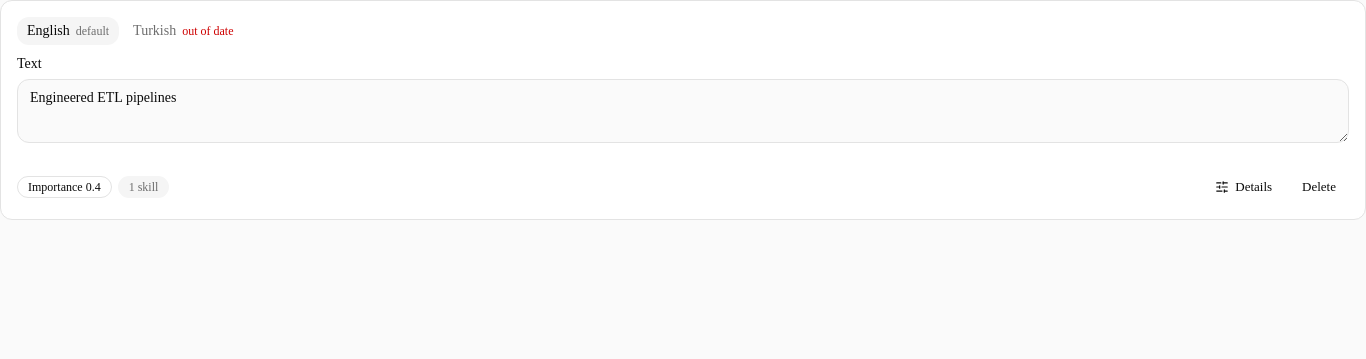
Test: a wording that was translated rather than written › says nothing about a wording the person wrote
What coordinates should you click on to do the following:
click the tab "Turkish out of date"
I would click on:
 (183, 31)
Its box is 123,17 -> 244,45.
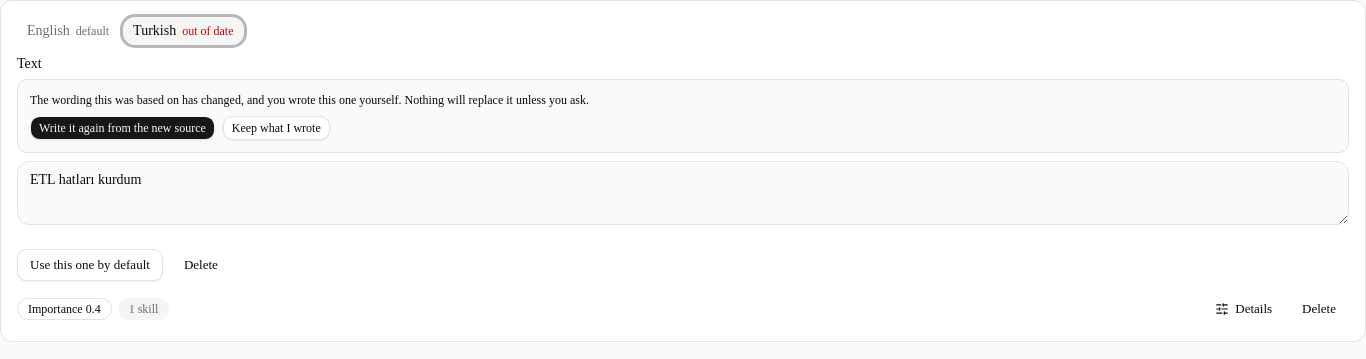
Expected: the message with test id "stale-yours" is shown, 17,79 -> 1349,153
